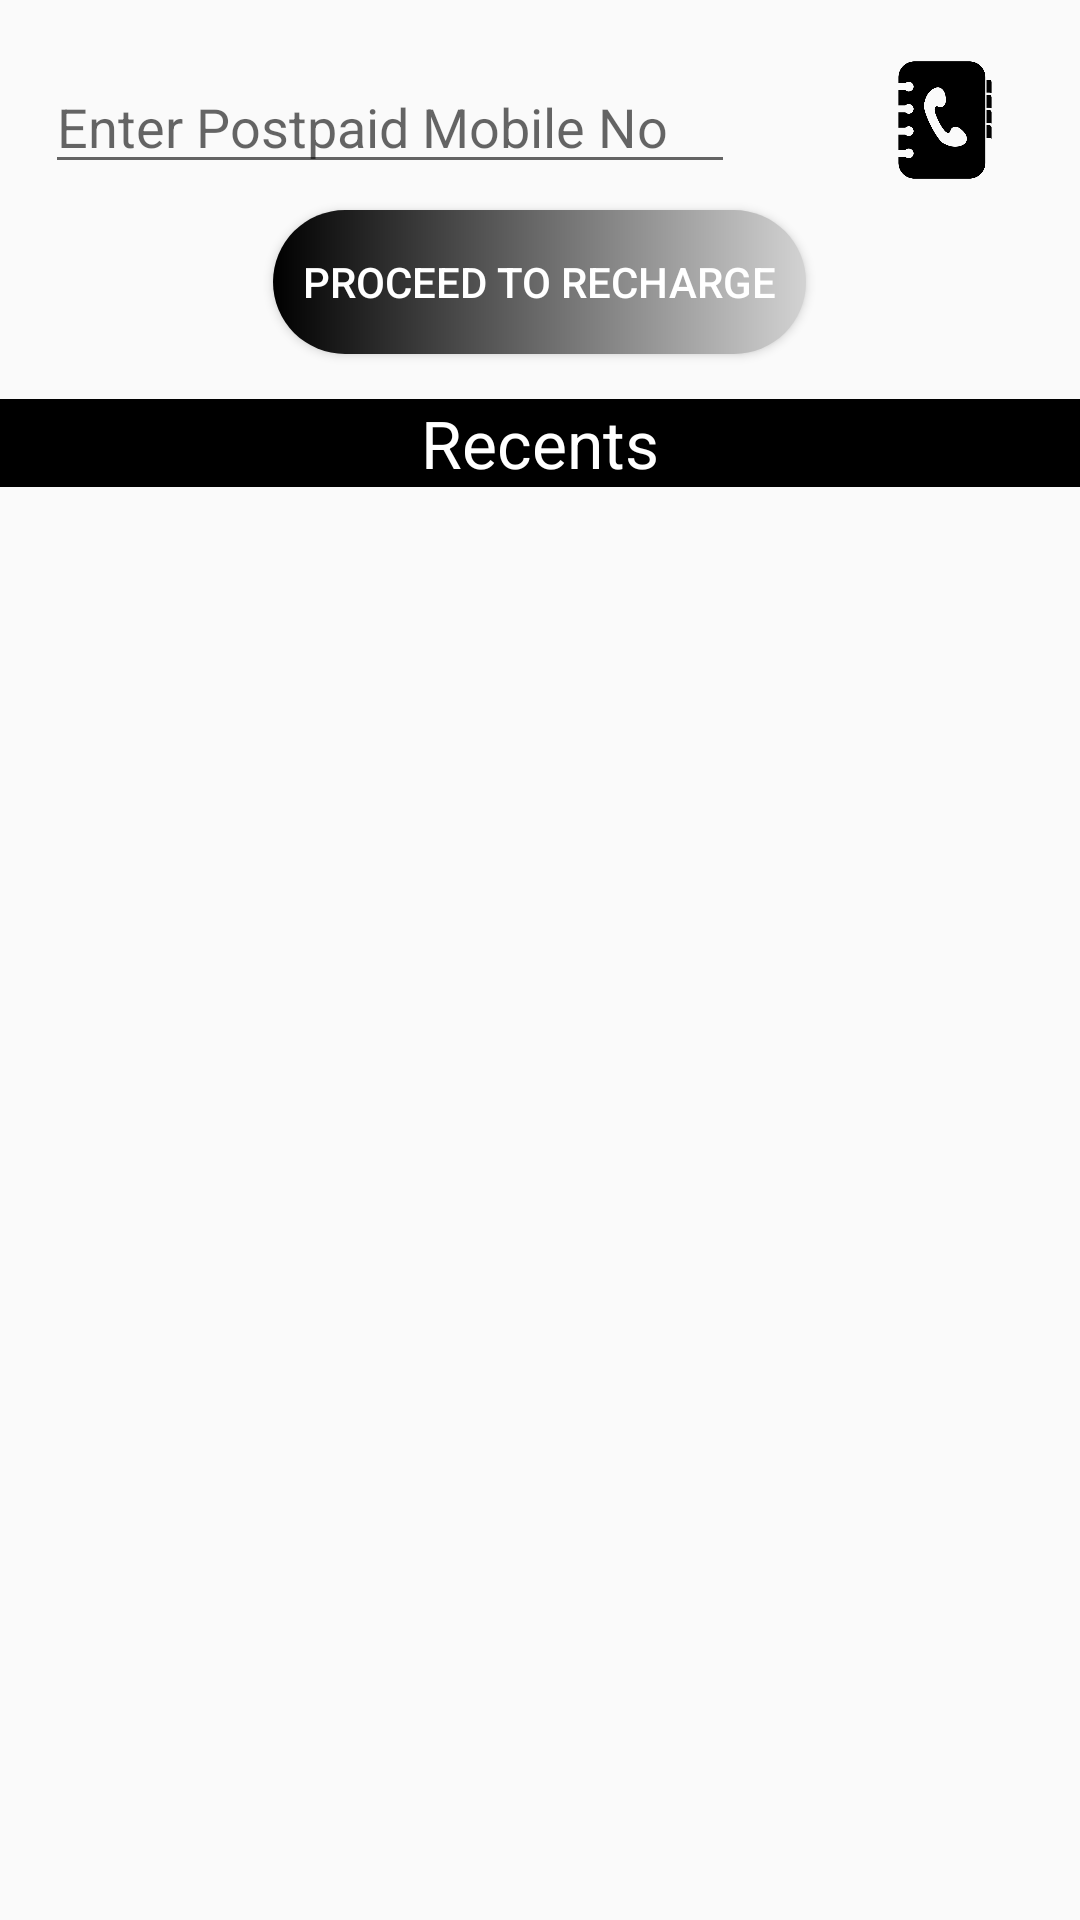

Icons on this 1080px×1920px Android screen, each with the point to tap as (x,y):
contacts: (945,120)
